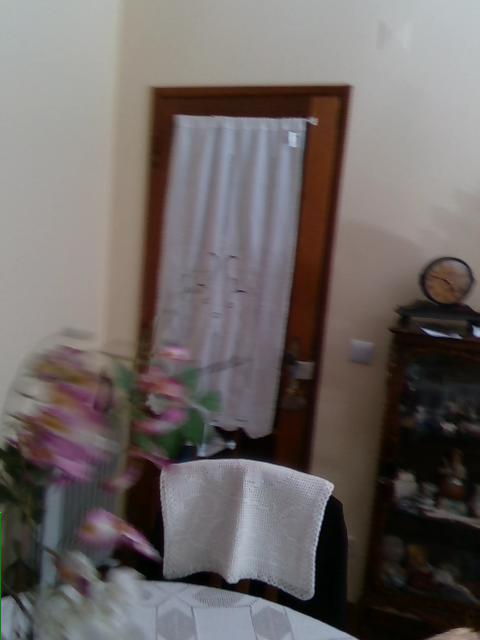door: (121, 84, 350, 541)
